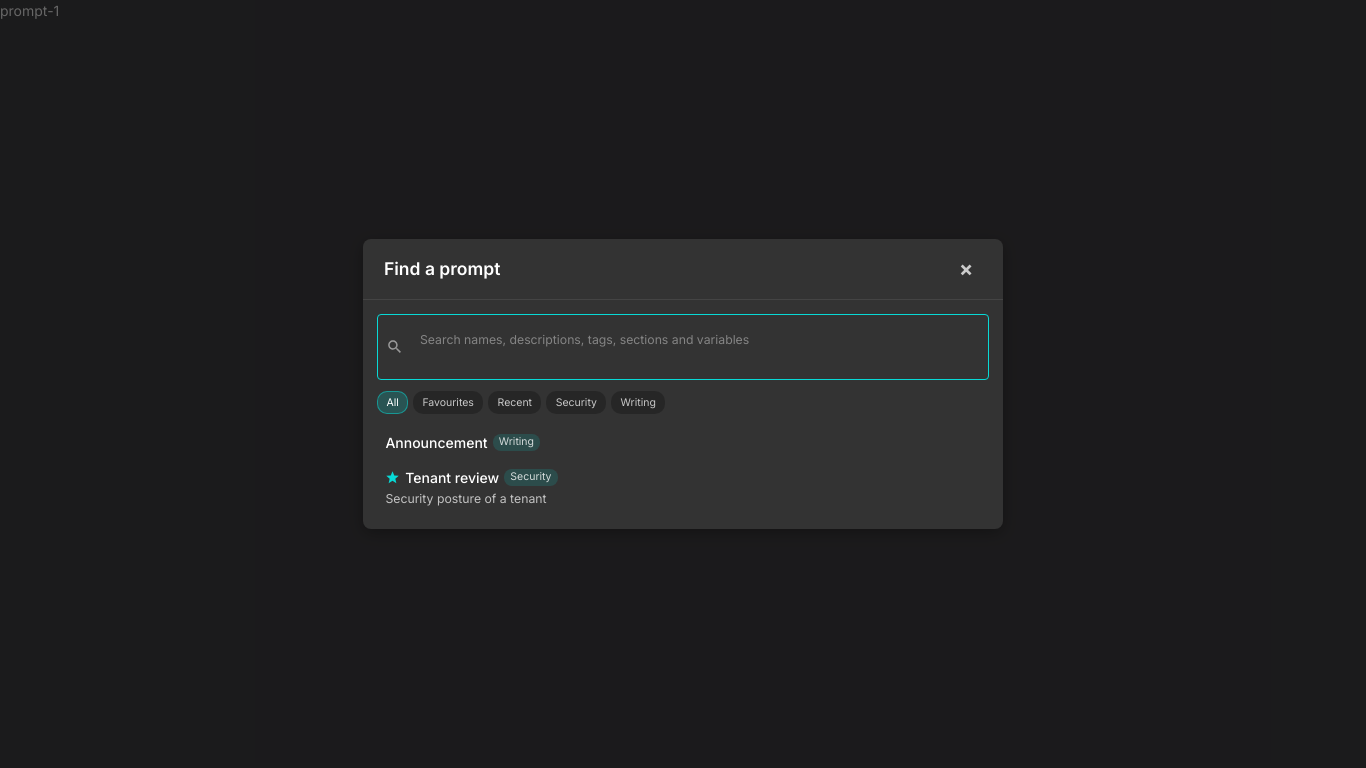
Test: finding a prompt › says why a prompt matched
Type "security" into the field named "Search prompts" at [695, 340], box [410,320,980,360]
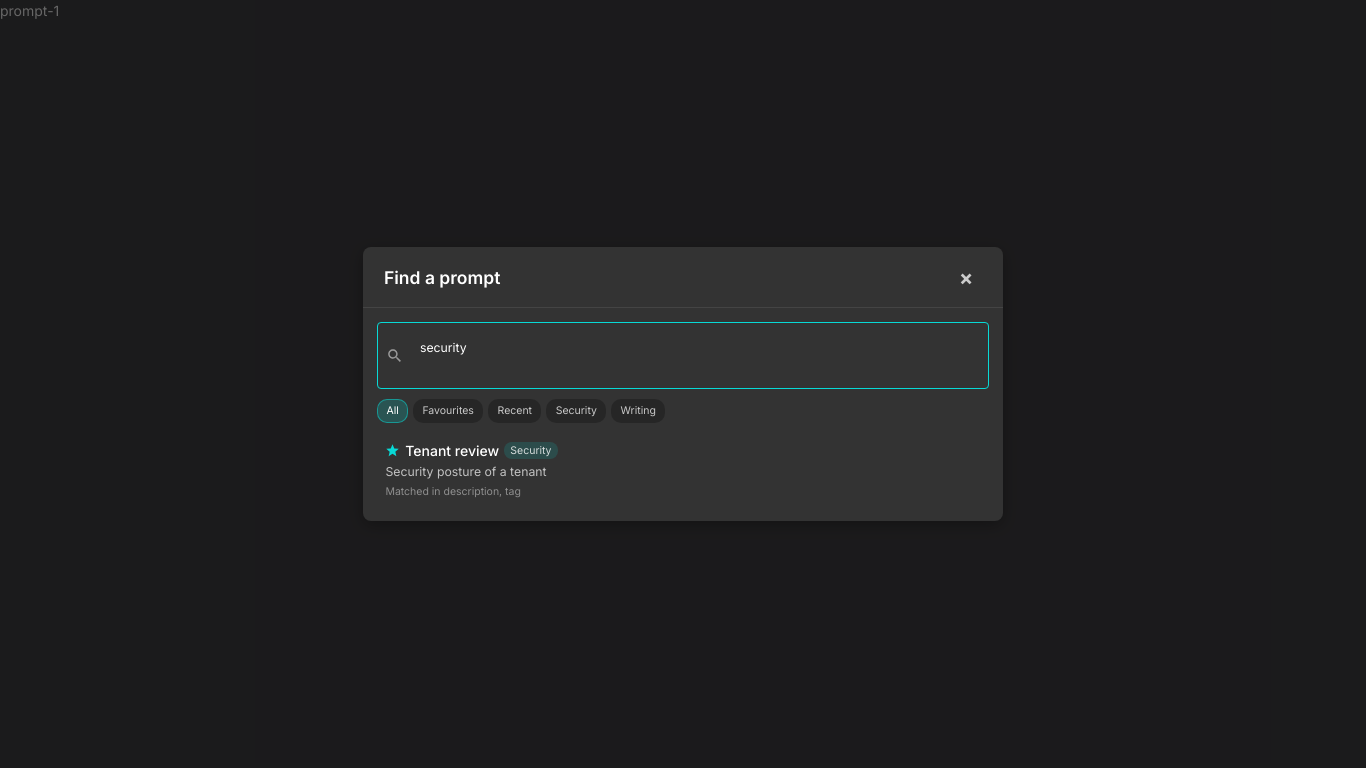
Now the text "Matched in description, tag" is shown, box [385,484,521,500]
